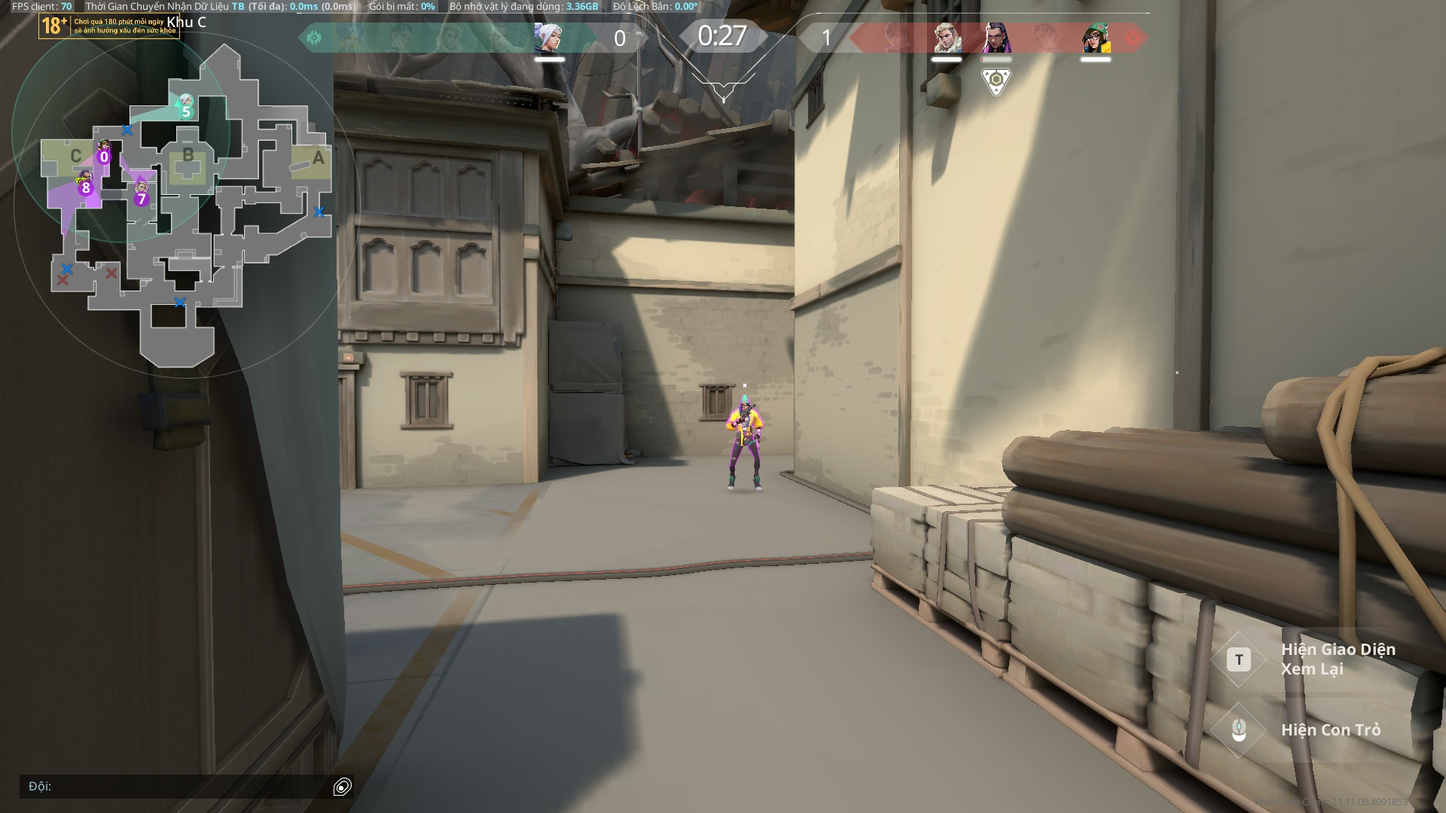body: (731, 408, 760, 431)
head: (740, 399, 750, 412)
